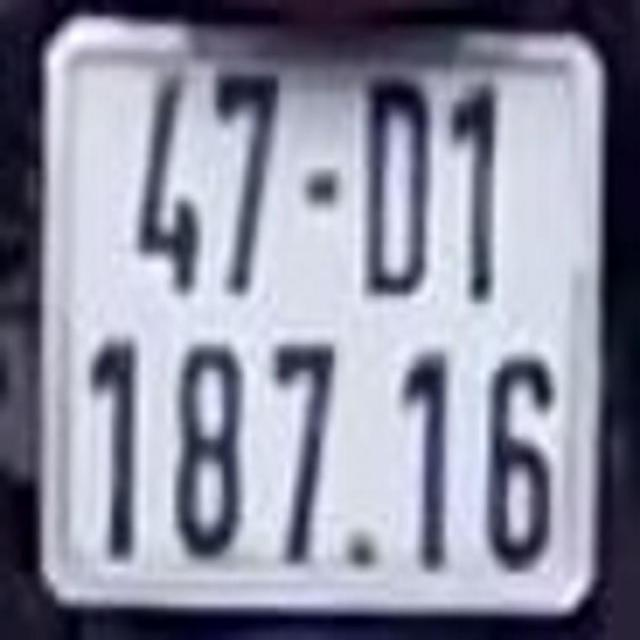1: (91, 338, 141, 560), (459, 83, 504, 304), (403, 353, 448, 570)
4: (139, 76, 201, 292)
6: (490, 352, 552, 565)
7: (272, 341, 333, 560), (211, 79, 272, 290)
8: (176, 341, 241, 554)
D: (365, 85, 427, 292)
